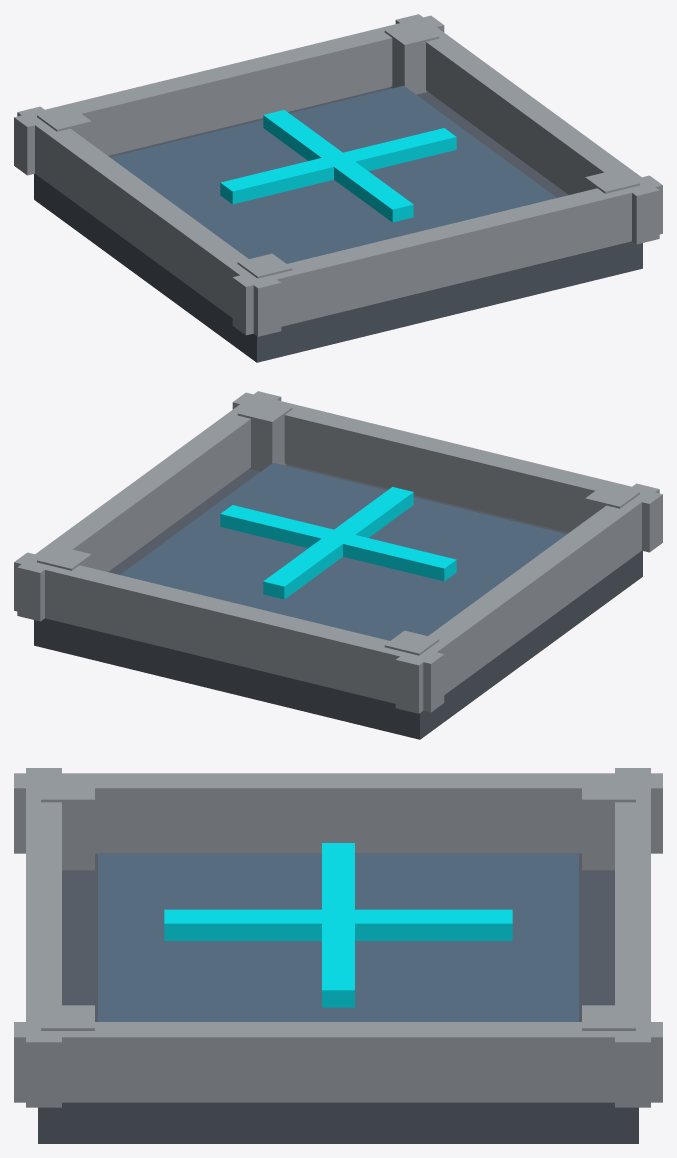
File: TD_PathTile.fbx
3 views of the same model, one above another, from view 1: azimuth 30°, elevation 25°; view 2: azimuth 150°, elevation 25°; view 3: azimuth 270°, elevation 25° (orthographic). The views are drawn at different scales.
Parts seen in each view (by area): view 1: TD_PathTile_Surface, TD_PathTile_Rail_South, TD_PathTile_Rail_North, TD_PathTile_BasePlate, TD_PathTile_Rail_West, TD_PathTile_Rail_East, TD_PathTile_Flow_East, TD_PathTile_Flow_North, TD_PathTile_Corner_NE, TD_PathTile_Corner_NW, TD_PathTile_Corner_SE, TD_PathTile_Corner_SW; view 2: TD_PathTile_Surface, TD_PathTile_Rail_North, TD_PathTile_Rail_South, TD_PathTile_BasePlate, TD_PathTile_Rail_West, TD_PathTile_Rail_East, TD_PathTile_Flow_East, TD_PathTile_Flow_North, TD_PathTile_Corner_SE, TD_PathTile_Corner_SW, TD_PathTile_Corner_NE, TD_PathTile_Corner_NW; view 3: TD_PathTile_Surface, TD_PathTile_Rail_East, TD_PathTile_Rail_West, TD_PathTile_BasePlate, TD_PathTile_Rail_North, TD_PathTile_Rail_South, TD_PathTile_Flow_North, TD_PathTile_Flow_East, TD_PathTile_Corner_NW, TD_PathTile_Corner_SW, TD_PathTile_Corner_NE, TD_PathTile_Corner_SE.
Part boxes in pixels (x1=…): TD_PathTile_Surface: x1=110, y1=85, x2=556, y2=263; TD_PathTile_Rail_South: x1=232, y1=175, x2=662, y2=335; TD_PathTile_Rail_North: x1=14, y1=15, x2=444, y2=175; TD_PathTile_BasePlate: x1=34, y1=87, x2=642, y2=362; TD_PathTile_Rail_West: x1=17, y1=106, x2=281, y2=336; TD_PathTile_Rail_East: x1=395, y1=14, x2=659, y2=244; TD_PathTile_Flow_East: x1=220, y1=128, x2=456, y2=204; TD_PathTile_Flow_North: x1=263, y1=110, x2=413, y2=222; TD_PathTile_Corner_NE: x1=384, y1=22, x2=439, y2=94; TD_PathTile_Corner_NW: x1=37, y1=106, x2=91, y2=143; TD_PathTile_Corner_SE: x1=585, y1=168, x2=639, y2=193; TD_PathTile_Corner_SW: x1=237, y1=253, x2=292, y2=278; TD_PathTile_Surface: x1=120, y1=462, x2=566, y2=640; TD_PathTile_Rail_North: x1=14, y1=552, x2=444, y2=712; TD_PathTile_Rail_South: x1=232, y1=392, x2=662, y2=552; TD_PathTile_BasePlate: x1=34, y1=464, x2=642, y2=739; TD_PathTile_Rail_West: x1=395, y1=483, x2=659, y2=713; TD_PathTile_Rail_East: x1=17, y1=391, x2=281, y2=621; TD_PathTile_Flow_East: x1=220, y1=505, x2=456, y2=581; TD_PathTile_Flow_North: x1=263, y1=487, x2=413, y2=599; TD_PathTile_Corner_SE: x1=237, y1=399, x2=292, y2=471; TD_PathTile_Corner_SW: x1=585, y1=483, x2=639, y2=520; TD_PathTile_Corner_NE: x1=37, y1=545, x2=91, y2=570; TD_PathTile_Corner_NW: x1=384, y1=630, x2=439, y2=655; TD_PathTile_Surface: x1=98, y1=854, x2=578, y2=1021; TD_PathTile_Rail_East: x1=14, y1=1022, x2=662, y2=1102; TD_PathTile_Rail_West: x1=14, y1=773, x2=662, y2=853; TD_PathTile_BasePlate: x1=38, y1=853, x2=638, y2=1143; TD_PathTile_Rail_North: x1=615, y1=768, x2=650, y2=1107; TD_PathTile_Rail_South: x1=26, y1=768, x2=61, y2=1107; TD_PathTile_Flow_North: x1=164, y1=909, x2=512, y2=940; TD_PathTile_Flow_East: x1=322, y1=843, x2=354, y2=1007; TD_PathTile_Corner_NW: x1=582, y1=776, x2=635, y2=870; TD_PathTile_Corner_SW: x1=41, y1=776, x2=94, y2=870; TD_PathTile_Corner_NE: x1=582, y1=1005, x2=635, y2=1030; TD_PathTile_Corner_SE: x1=41, y1=1005, x2=94, y2=1030.
Bounding box in the file's own units: 108 × 21 × 108.
